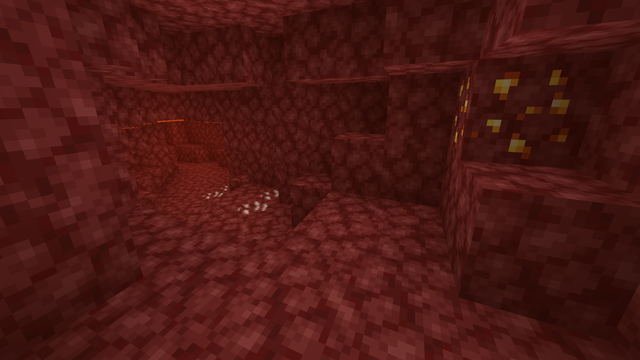nethergold: (447, 58, 583, 171)
quartz: (235, 185, 284, 221), (200, 182, 237, 205)
